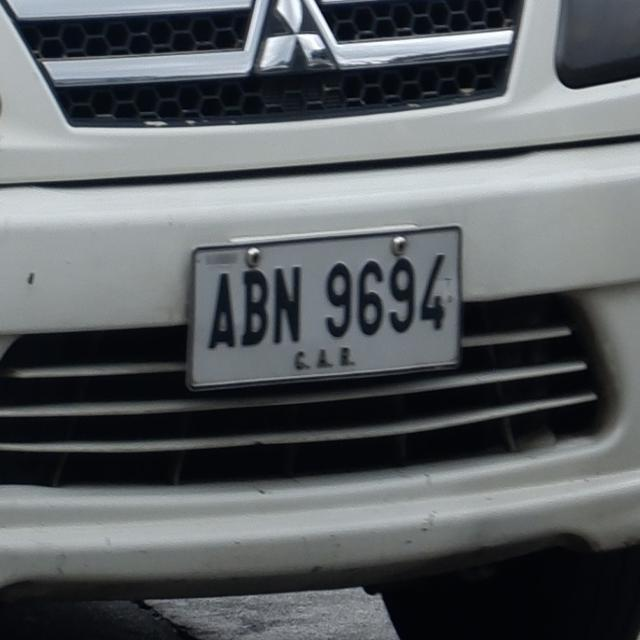LicensePlate: (169, 226, 466, 391)
